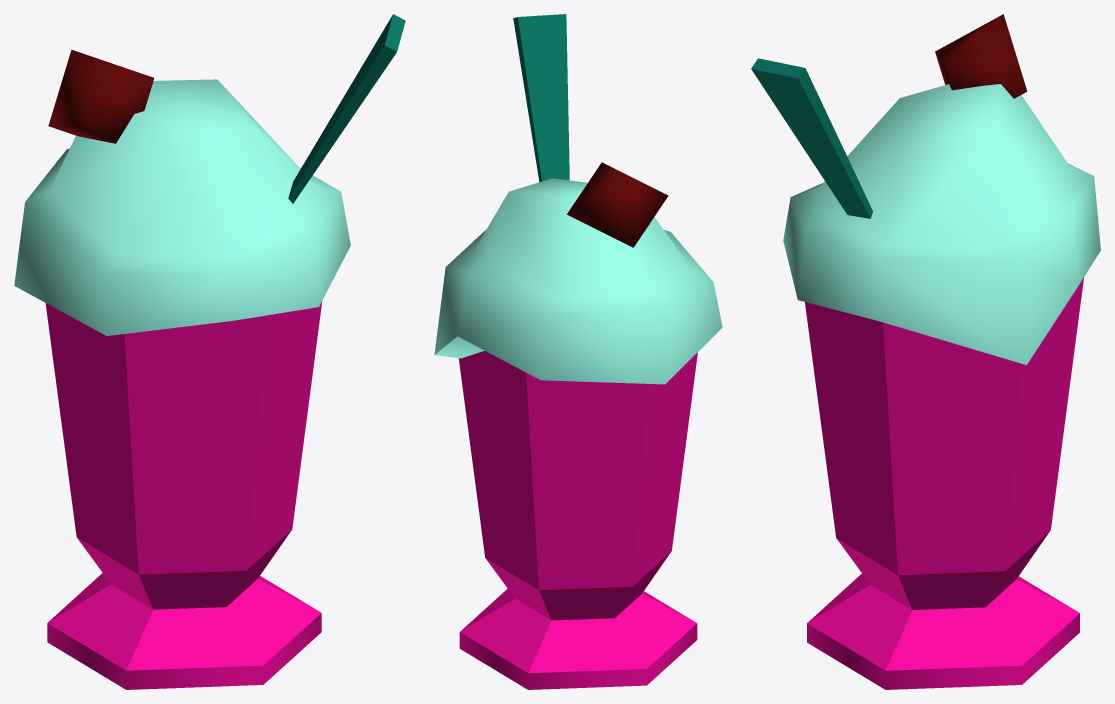
The model's file is icecup_pinkblue.FBX.
The picture shows the model from 3 angles, left to right: view 1: azimuth 30°, elevation 25°; view 2: azimuth 150°, elevation 25°; view 3: azimuth 270°, elevation 25°; orthographic projection. The views are drawn at different scales.
Visible parts, largest first — view 1: icecup_pinkblue; view 2: icecup_pinkblue; view 3: icecup_pinkblue.
Part boxes in pixels (x1,y1,x2,y2): icecup_pinkblue: (14, 14, 405, 689); icecup_pinkblue: (434, 14, 722, 689); icecup_pinkblue: (751, 14, 1100, 689).
Bounding box in the file's own units: 35.02 × 75.52 × 37.58.
